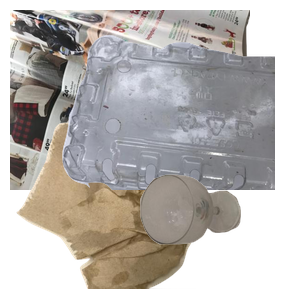glass: (138, 172, 300, 300)
paper: (10, 10, 250, 190)
plastic: (60, 32, 300, 212)
trash: (14, 120, 222, 300)
